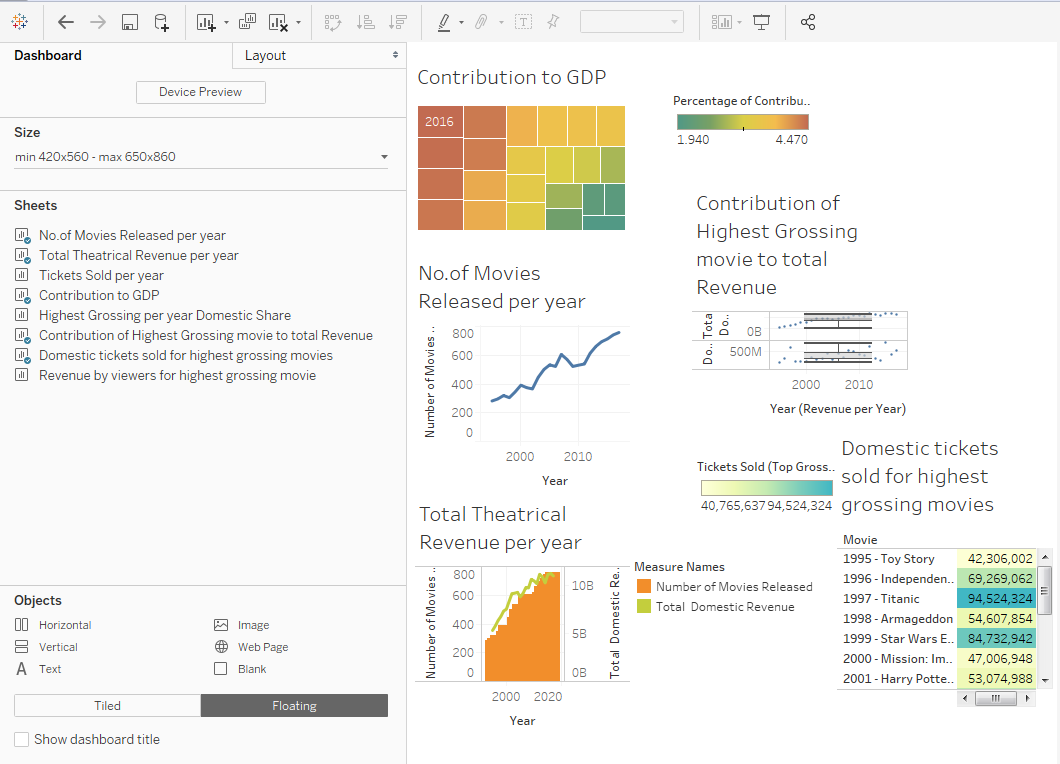

This screenshot's page, from the dashboard's own definition file:
{"tool":"tableau","page":{"name":"Stats of Hollywood","canvas":[650,860],"ordinal":0},"visuals":[{"type":"worksheet","title":"Contribution to GDP","mark":"Automatic","box":[6,19,216,286.7]},{"type":"legend","title":"Contribution to GDP","param":"[federated.02qtwlb0vvut8z1cf0fie1dmtteg].[sum:Percentage of Contribution to Nati","box":[266,59.2,140,90]},{"type":"worksheet","title":"Contribution of Highest Grossing movie to total Revenue","mark":"Circle","rows":["Total  Domestic Revenue","Domestic Revenue of Highest Grossing Movie"],"cols":["Year (Revenue per Year)"],"box":[285,168.2,216,286.7]},{"type":"worksheet","title":"No.of Movies Released per year","mark":"Automatic","rows":["Number of Movies Released"],"cols":["Year"],"box":[7,251.1,216,286.7]},{"type":"worksheet","title":"Domestic tickets sold for highest grossing movies","mark":"Square","rows":["Movie"],"box":[430,458.4,216,395.7]},{"type":"legend","title":"Domestic tickets sold for highest grossing movies","param":"[federated.02qtwlb0vvut8z1cf0fie1dmtteg].[sum:Tickets Sold (Top Grossing Movie p","box":[290,492.8,140,90]},{"type":"worksheet","title":"Total Theatrical Revenue per year","mark":"Automatic","rows":["Number of Movies Released","Total  Domestic Revenue"],"cols":["Year"],"box":[8,536.6,216,286.7]},{"type":"legend","title":"Total Theatrical Revenue per year","param":"[federated.02qtwlb0vvut8z1cf0fie1dmtteg].[:Measure Names]","box":[227,611.2,183,68.7]}]}

Visuals, with their boxes on the page's 650x860 design canvas (x1, y1, x2, y2). These are canvas units, not pixel positions in the 1060x764 screenshot, which may show the page scaled, cropped or inside an application window:
"Contribution to GDP" worksheet: pyautogui.locateOnScreen(6, 19, 222, 306)
"Contribution to GDP" legend: pyautogui.locateOnScreen(266, 59, 406, 149)
"Contribution of Highest Grossing movie to total Revenue" worksheet (Circle marks): pyautogui.locateOnScreen(285, 168, 501, 455)
"No.of Movies Released per year" worksheet: pyautogui.locateOnScreen(7, 251, 223, 538)
"Domestic tickets sold for highest grossing movies" worksheet (Square marks): pyautogui.locateOnScreen(430, 458, 646, 854)
"Domestic tickets sold for highest grossing movies" legend: pyautogui.locateOnScreen(290, 493, 430, 583)
"Total Theatrical Revenue per year" worksheet: pyautogui.locateOnScreen(8, 537, 224, 823)
"Total Theatrical Revenue per year" legend: pyautogui.locateOnScreen(227, 611, 410, 680)
